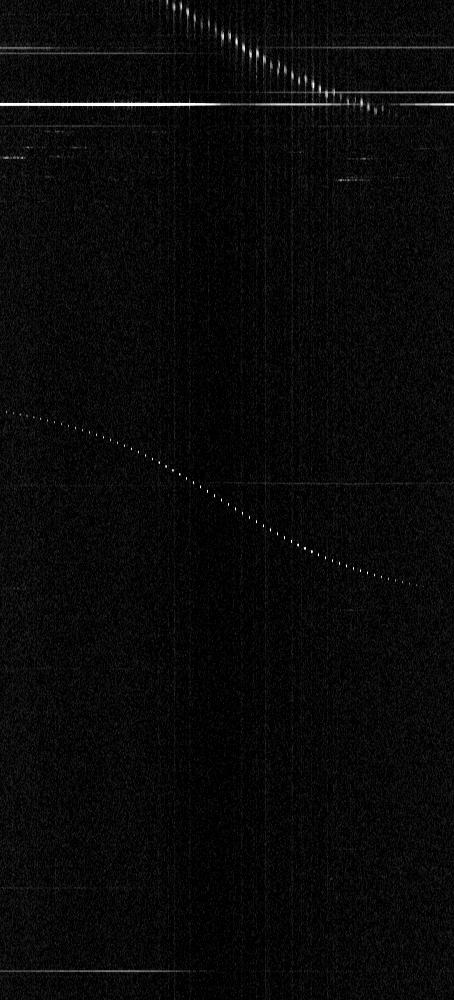signal: (0, 0, 453, 999)
